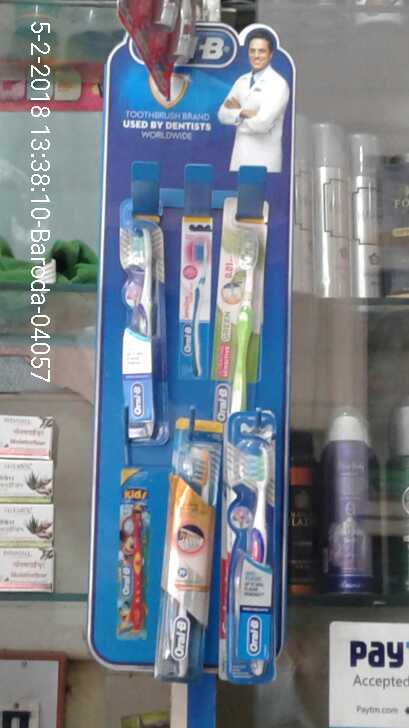oralb: (231, 429, 287, 679), (108, 222, 167, 444), (171, 427, 216, 684), (217, 230, 279, 413)
